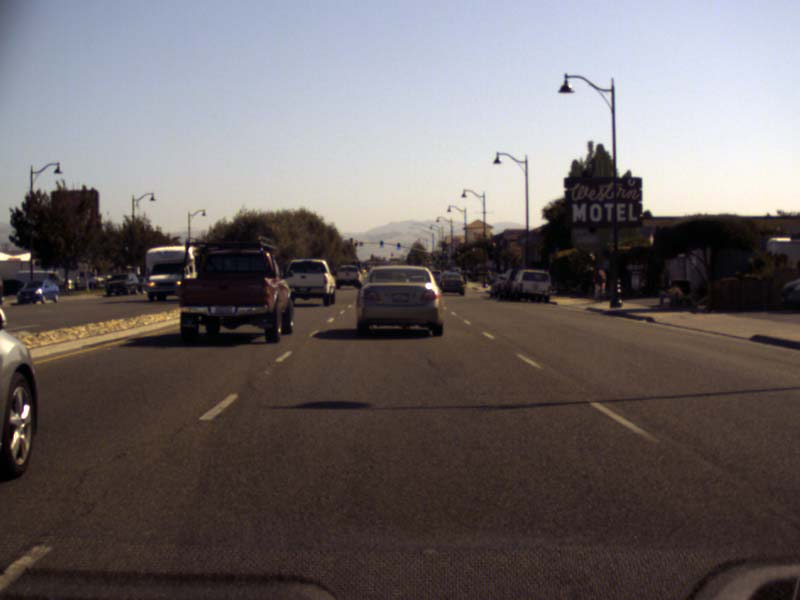Green: (379, 240, 383, 248), (396, 242, 399, 249)
Red: (354, 240, 357, 246)
